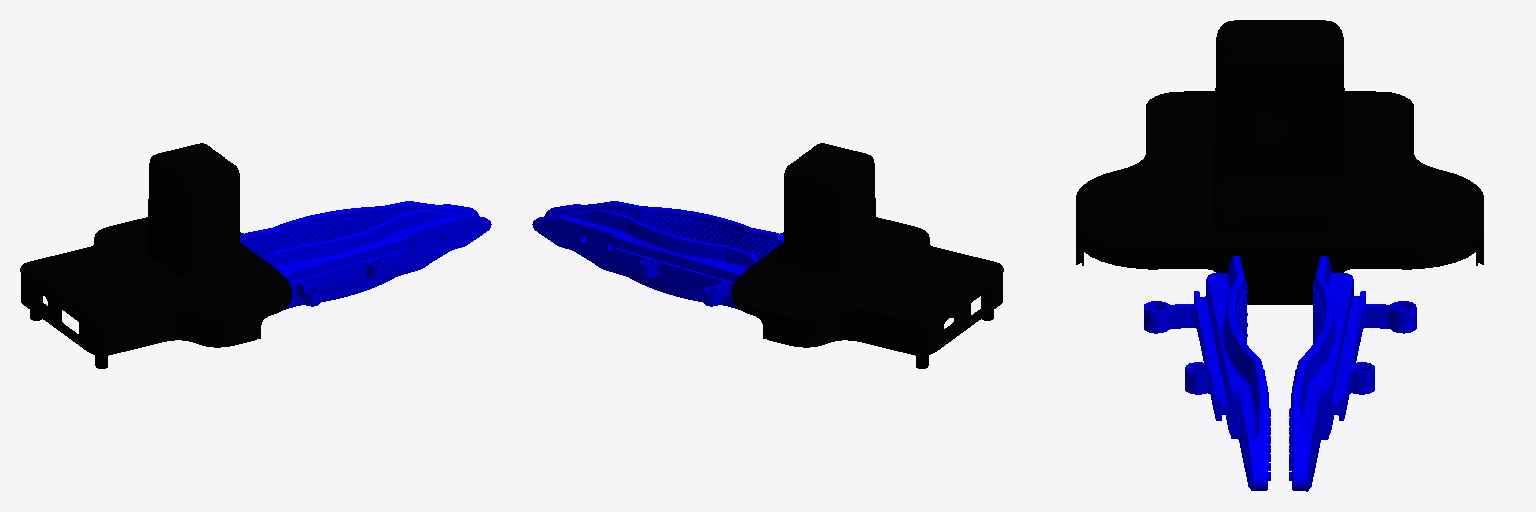
URDF robot description (FingerControllerurdf0801):
<?xml version="1.0" encoding="utf-8"?>
<!-- This URDF was automatically created by SolidWorks to URDF Exporter! Originally created by Stephen Brawner (brawner@gmail.com) 
     Commit Version: 1.6.0-4-g7f85cfe  Build Version: 1.6.7995.38578
     For more information, please see http://wiki.ros.org/sw_urdf_exporter -->
<robot name="FingerControllerurdf0801">
  <material name="black">
    <color rgba="0.02 0.02 0.02 1"/>
  </material>

  <material name="blue">
    <color rgba="0 0 1 1"/>
  </material>
  


  <link name="world">
    <inertial>
      <mass value="0.001"/>
      <inertia ixx="0.000000001" iyy="0.000000001" izz="0.000000001" ixy="0" ixz="0" iyz="0"/>
    </inertial>
  </link>

  <link name="world_link_linear_x">
    <inertial>
      <mass value="0.001"/>
      <inertia ixx="0.000000001" iyy="0.000000001" izz="0.000000001" ixy="0" ixz="0" iyz="0"/>
    </inertial>
  </link>

  <link name="world_link_linear_y">
    <inertial>
      <mass value="0.001"/>
      <inertia ixx="0.000000001" iyy="0.000000001" izz="0.000000001" ixy="0" ixz="0" iyz="0"/>
    </inertial>
  </link>

  <link name="world_link_linear_z">
    <inertial>
      <mass value="0.001"/>
      <inertia ixx="0.000000001" iyy="0.000000001" izz="0.000000001" ixy="0" ixz="0" iyz="0"/>
    </inertial>
  </link>

  <link name="world_link_rotation_x">
    <inertial>
      <mass value="0.001"/>
      <inertia ixx="0.000000001" iyy="0.000000001" izz="0.000000001" ixy="0" ixz="0" iyz="0"/>
    </inertial>
  </link>

  <link name="world_link_rotation_y">
    <inertial>
      <mass value="0.001"/>
      <inertia ixx="0.000000001" iyy="0.000000001" izz="0.000000001" ixy="0" ixz="0" iyz="0"/>
    </inertial>
  </link>

  <joint name="gripper_joint_x" type="prismatic">
    <parent link="world" />
    <child link="world_link_linear_x" />
    <origin xyz="0 0 0" rpy="0 0 0" />
    <axis xyz="1 0 0" />
    <limit lower="-2.0" upper="2.0" effort="0" velocity="0" />
    <dynamics damping="0.1" friction="0.1" />
  </joint>

  <joint name="gripper_joint_y" type="prismatic">
    <parent link="world_link_linear_x" />
    <child link="world_link_linear_y" />
    <origin xyz="0 0 0" rpy="0 0 0" />
    <axis xyz="0 1 0" />
    <limit lower="-2.0" upper="2.0" effort="0" velocity="0" />
    <dynamics damping="0.1" friction="0.1" />
  </joint>

  <joint name="gripper_joint_z" type="prismatic">
    <parent link="world_link_linear_y" />
    <child link="world_link_linear_z" />
    <origin xyz="0 0 0" rpy="0 0 0" />
    <axis xyz="0 0 1" />
    <limit lower="-2.0" upper="2.0" effort="0" velocity="0" />
    <dynamics damping="0.1" friction="0.1" />
  </joint>

  <joint name="gripper_joint_rx" type="revolute">
    <parent link="world_link_linear_z" />
    <child link="world_link_rotation_x" />
    <origin xyz="0 0 0" rpy="0 0 0" />
    <axis xyz="1 0 0" />
    <limit lower="-31.415" upper="31.415" effort="0" velocity="0" />
    <dynamics damping="10.1" friction="0.1" />
  </joint>

  <joint name="gripper_joint_ry" type="revolute">
    <parent link="world_link_rotation_x" />
    <child link="world_link_rotation_y" />
    <origin xyz="0 0 0" rpy="0 0 0" />
    <axis xyz="0 1 0" />
    <limit lower="-31.415" upper="31.415" effort="0" velocity="0" />
    <dynamics damping="10.1" friction="0.1" />
  </joint>

  <joint name="gripper_joint_rz" type="revolute">
    <parent link="world_link_rotation_y" />
    <child link="base_link" />
    <origin xyz="0 0 0" rpy="0 0 0" />
    <axis xyz="0 0 1" />
    <limit lower="-31.415" upper="31.415" effort="0" velocity="0" />
    <dynamics damping="10.1" friction="0.1" />
  </joint>



  <link name="base_link">
    <inertial>
      <origin
        xyz="-0.013200567949009 -0.000150361978576846 -0.0304874610536902"
        rpy="0 0 0" />
      <mass
        value="0.0704922485153713" />
      <inertia
        ixx="3.08582827755425E-05"
        ixy="3.58713333443388E-08"
        ixz="-2.57432699083242E-06"
        iyy="2.63781585593708E-05"
        iyz="-5.57082506285149E-08"
        izz="4.66759466932511E-05" />
    </inertial>
    <visual>
      <origin
        xyz="0 0 0"
        rpy="0 0 0" />
      <geometry>
        <mesh
          filename="meshes/base_link.STL" />
      </geometry>
      <material name="black"/>
    </visual>
    <collision>
      <origin
        xyz="0 0 0"
        rpy="0 0 0" />
      <geometry>
        <mesh
          filename="meshes/base_link.STL" />
      </geometry>
    </collision>
  </link>

  <link name="camera">
    <inertial>
      <mass value="0.001"/>
      <inertia ixx="0.000000001" iyy="0.000000001" izz="0.000000001" ixy="0" ixz="0" iyz="0"/>
    </inertial>
  </link>
  <joint name="fflan" type="fixed">
    <origin
      xyz="0.0145 0 0"
      rpy="0 0 0" />
    <parent link="base_link" />
    <child link="camera" />
    <axis xyz="0 0 0" />
  </joint>

  <link name="fflan_link">
    <inertial>
      <origin
        xyz="0.0445889394038676 0.00848244472886978 0.000156480023975725"
        rpy="0 0 0" />
      <mass
        value="0.379048301093709" />
      <inertia
        ixx="0.000146291131592836"
        ixy="-1.73888133981939E-05"
        ixz="4.58488345972886E-07"
        iyy="0.000233447871667237"
        iyz="1.41279480249249E-07"
        izz="0.000165915764514924" />
    </inertial>
    <visual>
      <origin
        xyz="0 0 0"
        rpy="0 0 0" />
      <geometry>
        <mesh
          filename="meshes/fflan_link.STL" />
      </geometry>
      <material name="black"/>
    </visual>
    <collision>
      <origin
        xyz="0 0 0"
        rpy="0 0 0" />
      <geometry>
        <mesh
          filename="meshes/fflan_link.STL" />
      </geometry>
    </collision>
  </link>
  <joint name="fflan" type="fixed">
    <origin
      xyz="-0.0708615418463922 -4.82480870888924E-05 -0.0812149317453119"
      rpy="1.5707963267949 0 0" />
    <parent
      link="base_link" />
    <child
      link="fflan_link" />
    <axis
      xyz="0 0 0" />
  </joint>

  <link name="fleft_link">
    <inertial>
      <origin
        xyz="0.0115634666738332 -0.00758876482089119 -0.0106675357142485"
        rpy="0 0 0" />
      <mass
        value="0.0468812228983224" />
      <inertia
        ixx="1.57219371992122E-05"
        ixy="-2.86957494359371E-07"
        ixz="1.03841294129909E-05"
        iyy="2.54088595544028E-05"
        iyz="3.46702767685151E-07"
        izz="1.05533865939035E-05" />
    </inertial>
    <visual>
      <origin
        xyz="0 0 0"
        rpy="0 0 0" />
      <geometry>
        <mesh
          filename="meshes/fleft_link.STL" />
      </geometry>
      <material name="black"/>
    </visual>
    <collision>
      <origin
        xyz="0 0 0"
        rpy="0 0 0" />
      <geometry>
        <mesh
          filename="meshes/fleft_link.STL" />
      </geometry>
    </collision>
  </link>
  <joint name="fleft" type="revolute">
    <origin
      xyz="0.00793885671580377 0.0292902518998249 -0.0344178755407507"
      rpy="1.5707963267949 0 -1.0466" />
    <parent
      link="base_link" />
    <child
      link="fleft_link" />
    <axis
      xyz="0 1 0" />
    <limit
      lower="0"
      upper="1.0466"
      effort="1"
      velocity="1" />
  </joint>

  <link name="fright_link">
    <inertial>
      <origin
        xyz="0.0116419429140034 -0.0075769405125985 0.0107243990769801"
        rpy="0 0 0" />
      <mass
        value="0.0467284110333251" />
      <inertia
        ixx="1.57079589761305E-05"
        ixy="-2.87635170619994E-07"
        ixz="-1.03680863076455E-05"
        iyy="2.53647073767344E-05"
        iyz="-3.47621719499919E-07"
        izz="1.05228195659312E-05" />
    </inertial>
    <visual>
      <origin
        xyz="0 0 0"
        rpy="0 0 0" />
      <geometry>
        <mesh filename="meshes/fright_link.STL" />
      </geometry>
      <material name="black"/>
    </visual>
    <collision>
      <origin
        xyz="0 0 0"
        rpy="0 0 0" />
      <geometry>
        <mesh
          filename="meshes/fright_link.STL" />
      </geometry>
    </collision>
  </link>
  <joint name="fright" type="revolute">
    <origin
      xyz="0.00793885671580385 -0.0293867480983751 -0.0344178755407507"
      rpy="1.5707963267949 0 1.0466" />
    <parent link="base_link" />
    <child link="fright_link" />
    <axis xyz="0 -1 0" />
    <limit
      lower="0"
      upper="1.0466"
      effort="1"
      velocity="1" />
    <mimic
      joint="fleft"
      multiplier="1"
      offset="0" />
  </joint>

  <link
    name="jiaopil_link">
    <inertial>
      <origin
        xyz="0.0479696461543949 -0.00535472542389457 -0.0440149786771181"
        rpy="0 0 0" />
      <mass
        value="0.0100422761646334" />
      <inertia
        ixx="2.21498267935821E-06"
        ixy="3.4737095068155E-12"
        ixz="1.25522215203506E-06"
        iyy="2.86236682765885E-06"
        iyz="9.89801296201623E-11"
        izz="1.21467063942311E-06" />
    </inertial>
    <visual>
      <origin
        xyz="0 0 0"
        rpy="0 0 0" />
      <geometry>
        <mesh
          filename="meshes/jiaopil_link.STL" />
      </geometry>
      <material name="blue"/>
    </visual>
    <collision>
      <origin
        xyz="0 0 0"
        rpy="0 0 0" />
      <geometry>
        <mesh
          filename="meshes/jiaopil_link.STL" />
      </geometry>
    </collision>
  </link>

  <joint name="jiaopil" type="fixed">
    <origin
      xyz="0 0 0"
      rpy="0 0 0" />
    <parent link="fleft_link" />
    <child link="jiaopil_link" />
    <axis xyz="0 -0.999999999999966 0" />
  </joint>

  <link name="jiaopir_link">
    <inertial>
      <origin
        xyz="0.0479770075893166 -0.00535653457216419 0.0440107290981871"
        rpy="0 0 0" />
      <mass
        value="0.0100422761632979" />
      <inertia
        ixx="2.21498267920201E-06"
        ixy="-3.50273684613726E-12"
        ixz="-1.25522215196733E-06"
        iyy="2.86236682750045E-06"
        iyz="9.89475937654107E-11"
        izz="1.2146706393574E-06" />
    </inertial>
    <visual>
      <origin
        xyz="0 0 0"
        rpy="0 0 0" />
      <geometry>
        <mesh filename="meshes/jiaopir_link.STL" />
      </geometry>
      <material name="blue"/>
    </visual>
    <collision>
      <origin
        xyz="0 0 0"
        rpy="0 0 0" />
      <geometry>
        <mesh filename="meshes/jiaopir_link.STL" />
      </geometry>
    </collision>
  </link>
  <joint name="jiaopir" type="fixed">
    <origin
      xyz="0 0 0"
      rpy="0 0 0" />
    <parent link="fright_link" />
    <child link="jiaopir_link" />
  </joint>
</robot>

--- Render facts (derived) ---
The picture shows the robot from 3 angles, left to right: view 1: azimuth 30°, elevation 25°; view 2: azimuth 150°, elevation 25°; view 3: azimuth 270°, elevation 25°; orthographic projection.
Model FingerControllerurdf0801 with 13 links and 12 joints (5 revolute, 3 prismatic, 4 fixed), rooted at world, posed every joint at zero.
Links seen in each view (by area): view 1: base_link, jiaopir_link, jiaopil_link; view 2: base_link, jiaopil_link, jiaopir_link; view 3: base_link, jiaopil_link, jiaopir_link.
Boxes of the visible links, box(x1,y1,x2,y2) form: base_link: box(20, 143, 291, 368); jiaopir_link: box(266, 209, 491, 309); jiaopil_link: box(239, 201, 478, 260); base_link: box(732, 143, 1003, 368); jiaopil_link: box(532, 209, 757, 309); jiaopir_link: box(545, 201, 784, 260); base_link: box(1076, 20, 1483, 304); jiaopil_link: box(1289, 256, 1416, 491); jiaopir_link: box(1144, 256, 1270, 490).
Bounding box of the posed robot: 0.1881 × 0.0942 × 0.0669 m (x, y, z).
3 mesh visuals loaded from 6 distinct referenced files (3 binary STL); not drawn: 3 (reference not matched to a file when rendering).
